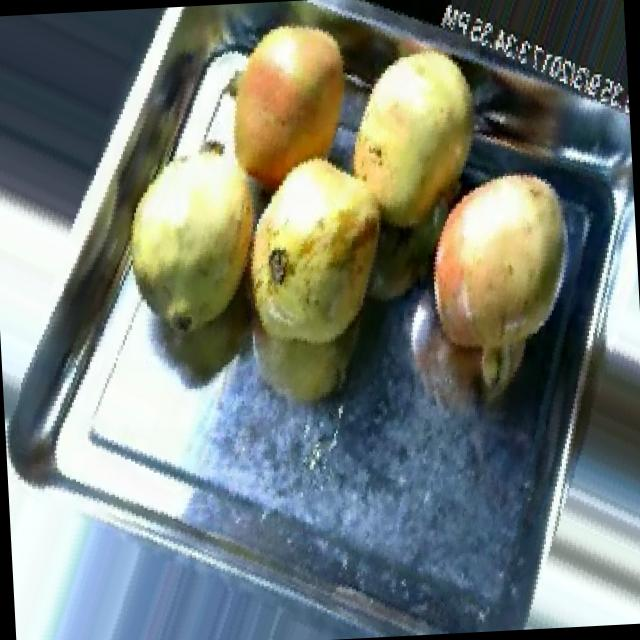fruit: (392, 144, 604, 404), (215, 130, 416, 380), (321, 22, 518, 255), (191, 0, 392, 219)
